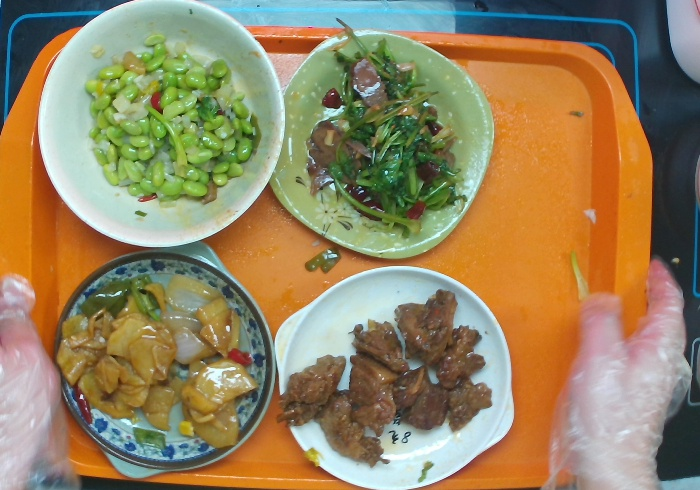NLDX-Bai_Se_Shuang_Er_Die: (268, 258, 526, 490)
NLDX-Bai_Se_Yuan_Wan: (30, 1, 290, 257)
NLDX-Lv_Hua_Fang_Die: (264, 19, 499, 269)
NLDX-Qing_Hua_Shuang_Er_Die: (47, 234, 284, 488)
